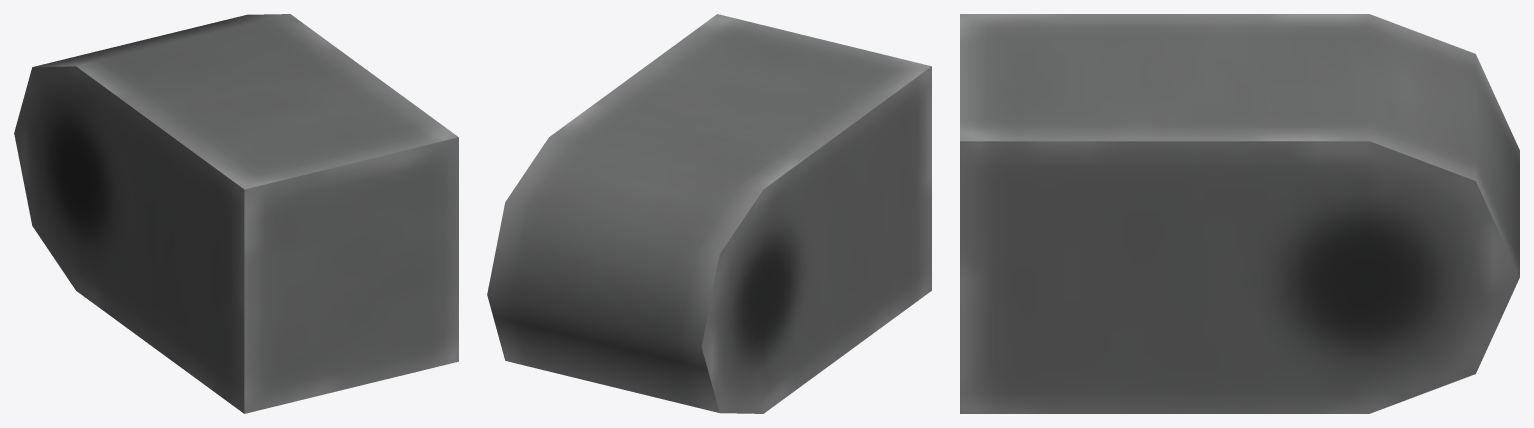
The model's file is Ara_Solar_1_Base.obj.
3 renders of one model, left to right at view 1: azimuth 30°, elevation 25°; view 2: azimuth 150°, elevation 25°; view 3: azimuth 270°, elevation 25°, orthographic. The views are drawn at different scales.
Visible parts, largest first — view 1: Ara_Solar_1_Base; view 2: Ara_Solar_1_Base; view 3: Ara_Solar_1_Base.
Boxes of the visible parts, x1=… form: Ara_Solar_1_Base: x1=14, y1=14, x2=458, y2=413; Ara_Solar_1_Base: x1=487, y1=14, x2=931, y2=413; Ara_Solar_1_Base: x1=960, y1=14, x2=1519, y2=413.
Size of the model in its own units: 0.0625 by 0.0625 by 0.1163.
